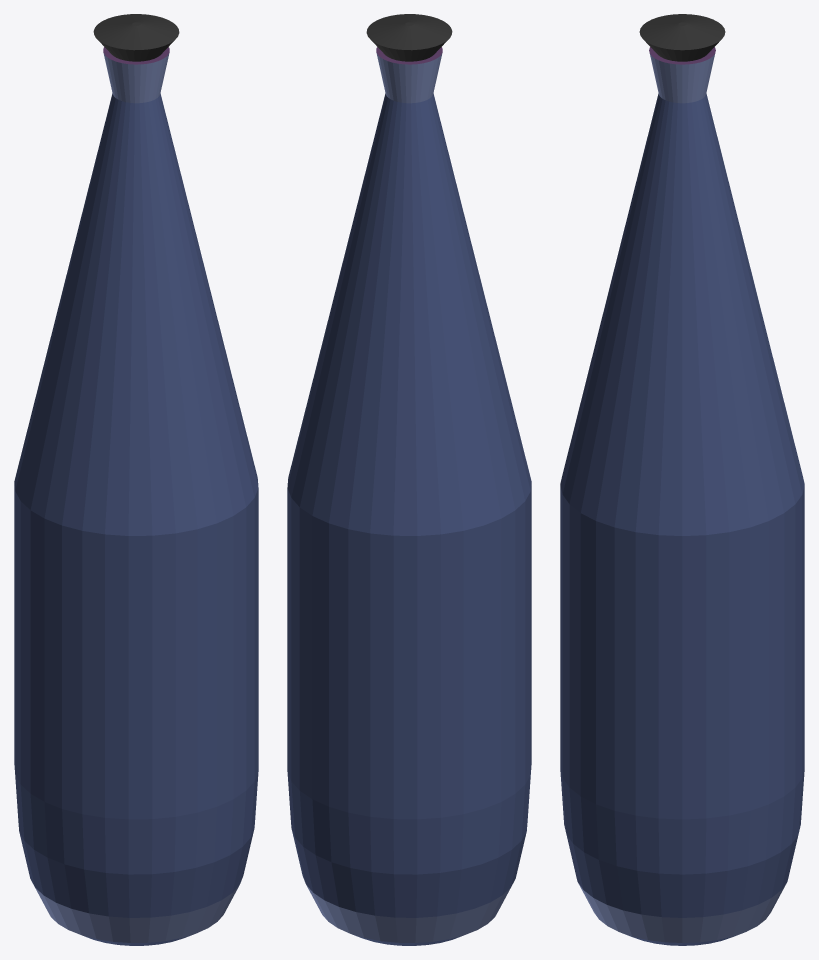
File: Res01_MilkBottle.fbx
3 renders of one model, left to right at view 1: azimuth 30°, elevation 25°; view 2: azimuth 150°, elevation 25°; view 3: azimuth 270°, elevation 25°, orthographic.
Visible parts, largest first — view 1: Res01_MilkBottle; view 2: Res01_MilkBottle; view 3: Res01_MilkBottle.
Boxes of the visible parts, box(x1,y1,x2,y2) form: Res01_MilkBottle: box(14, 14, 258, 945); Res01_MilkBottle: box(287, 14, 531, 945); Res01_MilkBottle: box(560, 14, 804, 945).
Size of the model in its own units: 26.13 by 105 by 26.13.
